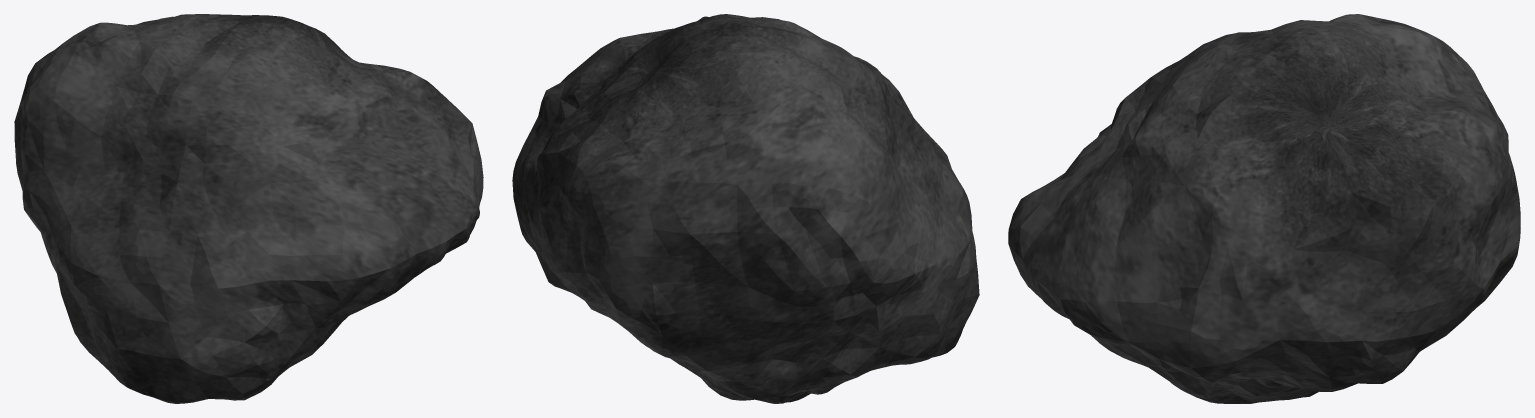
The model's file is Asteroid_3-1.fbx.
3 views of the same model, side by side, from view 1: azimuth 30°, elevation 25°; view 2: azimuth 150°, elevation 25°; view 3: azimuth 270°, elevation 25° (orthographic). The views are drawn at different scales.
Visible parts, largest first — view 1: Asteroid_1-1.001; view 2: Asteroid_1-1.001; view 3: Asteroid_1-1.001.
Part boxes in pixels (bbox=[...]): Asteroid_1-1.001: bbox=[14, 14, 483, 403]; Asteroid_1-1.001: bbox=[512, 14, 979, 403]; Asteroid_1-1.001: bbox=[1008, 14, 1520, 403].
Size of the model in its own units: 1.81 by 1.83 by 1.44.
Materials: 1 (1 with a texture image).
